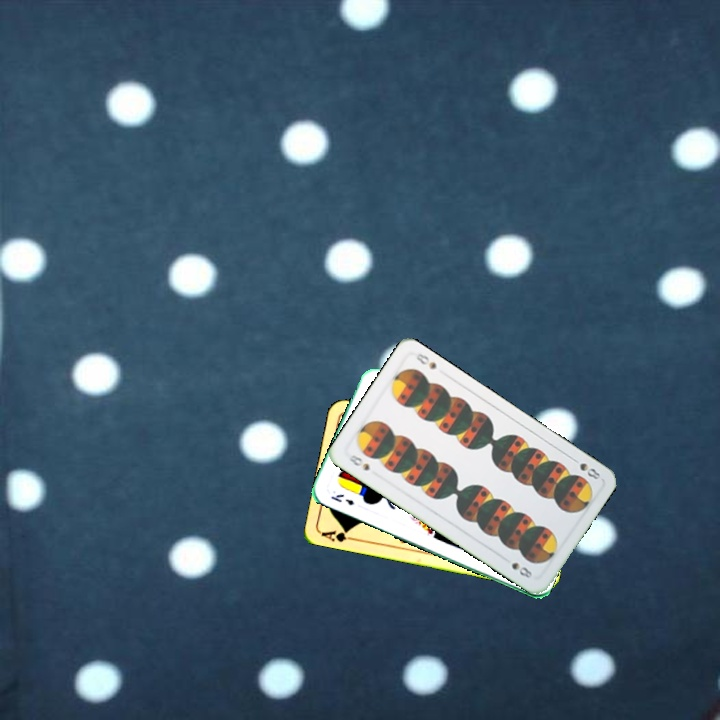EK: (327, 490, 356, 508)
GA: (318, 525, 359, 545)
S8: (567, 453, 604, 482), (345, 451, 372, 473)
